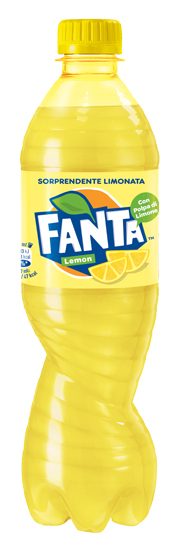Fanta: (15, 13, 160, 534)
